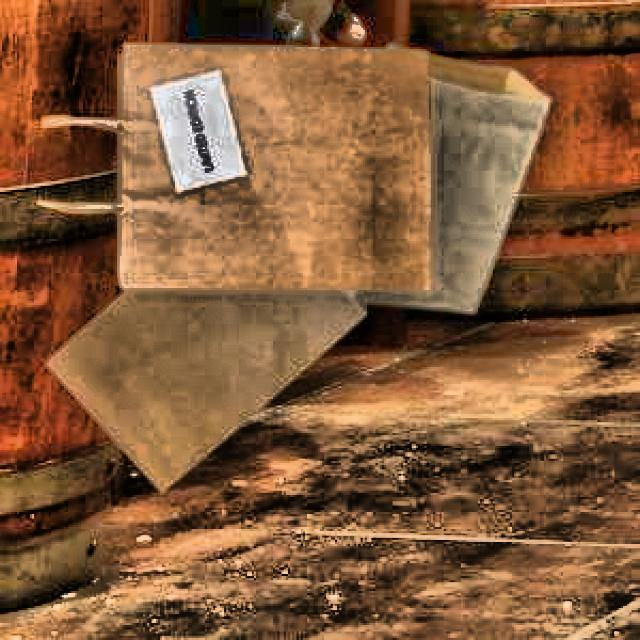Paper-bag: (23, 34, 437, 308), (39, 223, 369, 504), (287, 30, 556, 336)
